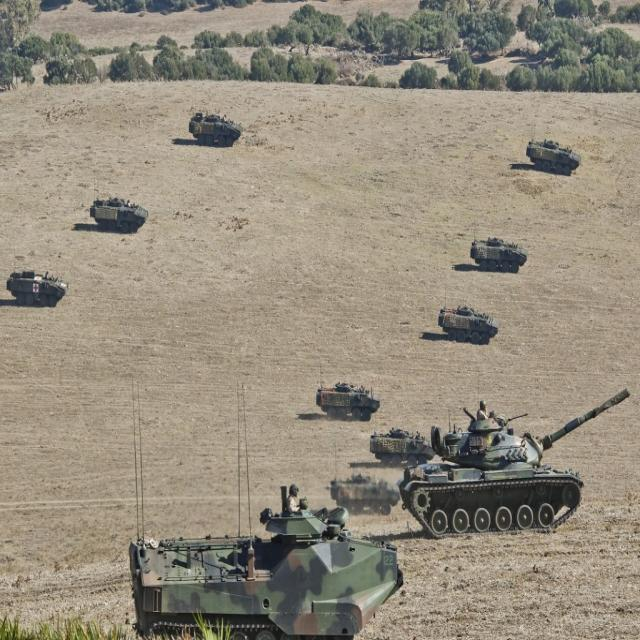tank: (130, 481, 404, 639), (401, 376, 631, 538), (360, 431, 436, 465), (316, 382, 381, 421), (437, 304, 499, 344), (89, 193, 149, 233), (7, 269, 68, 307), (469, 237, 529, 272), (188, 110, 243, 147), (526, 139, 582, 175)
